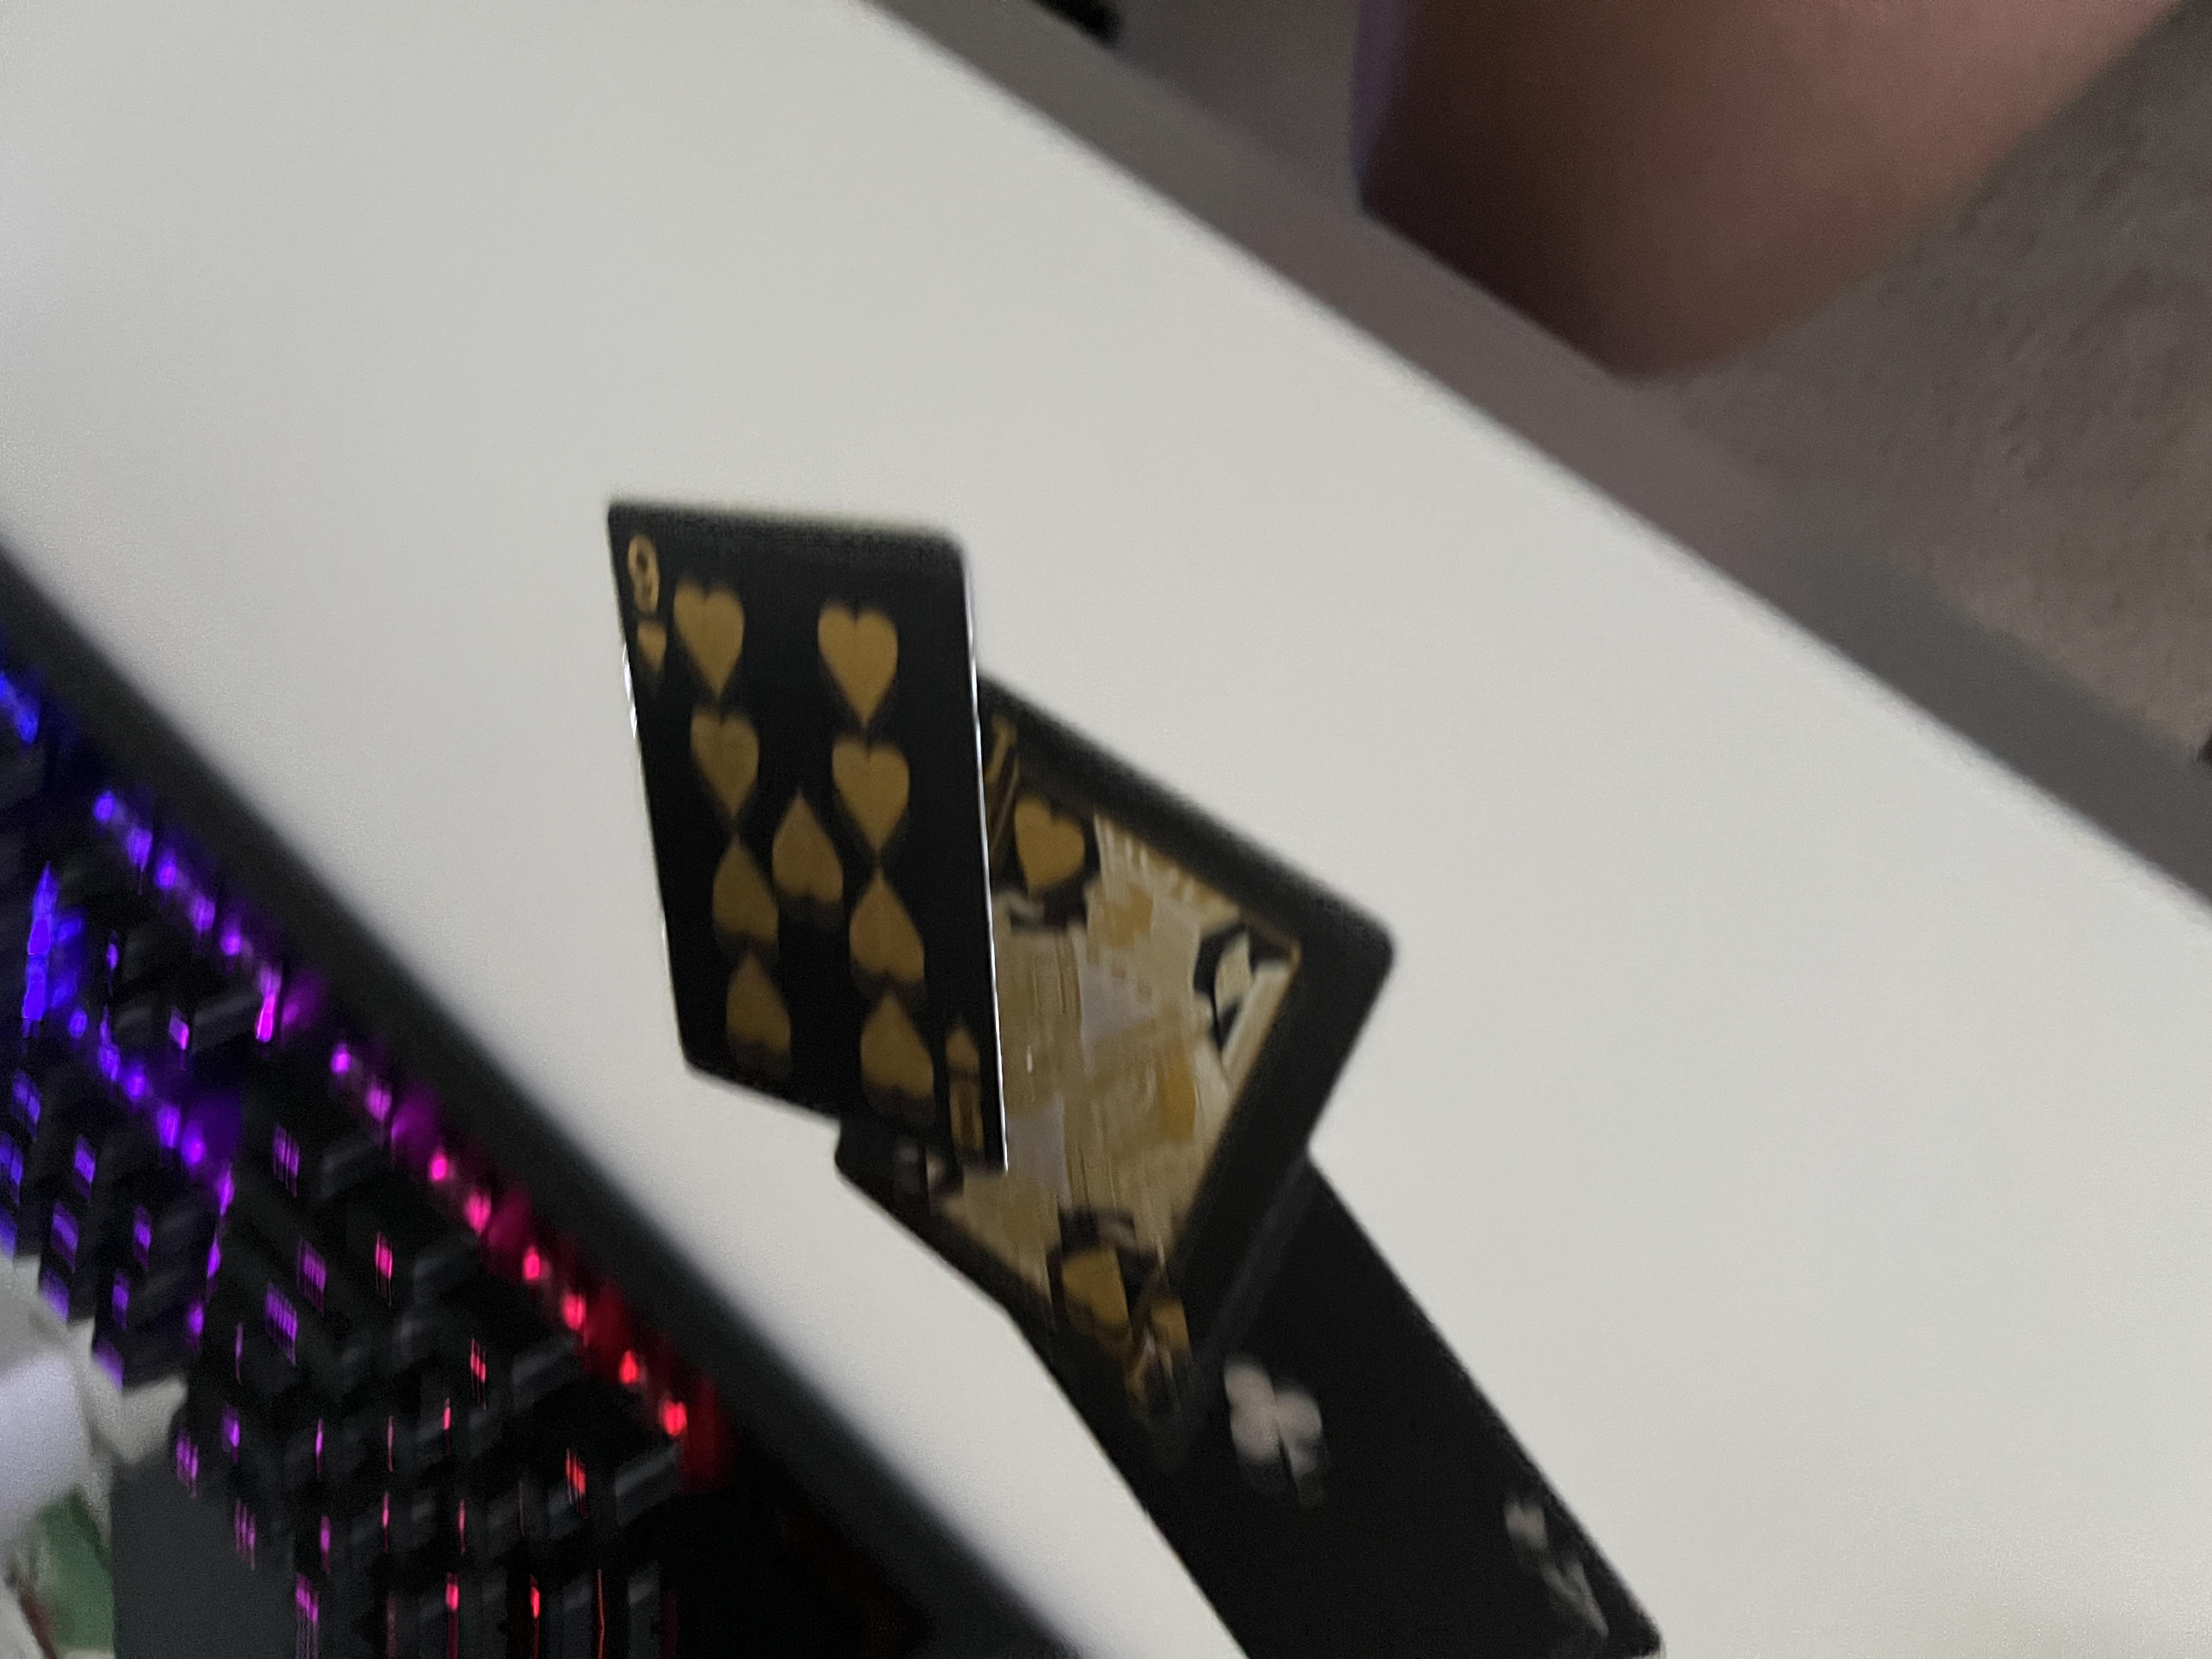9H: (1310, 465, 1525, 506), (676, 714, 852, 738)
AC: (19, 1116, 231, 1210)
JH: (338, 837, 499, 898)
